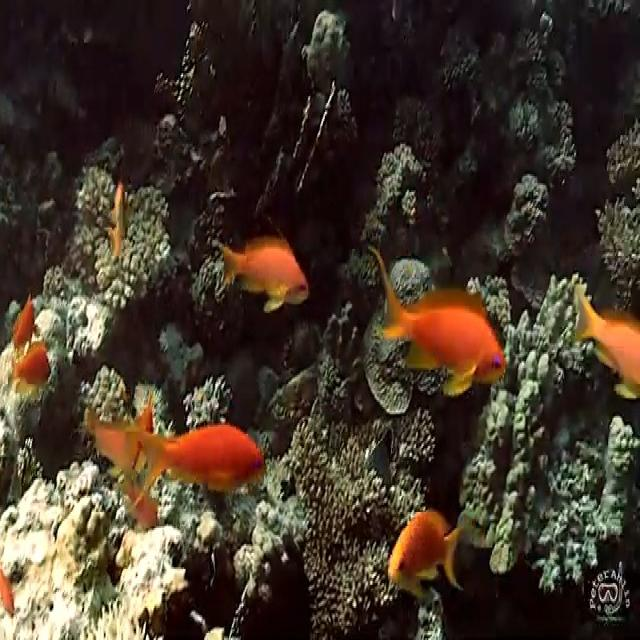Sea Goldie: (380, 252, 503, 388), (141, 421, 266, 494), (218, 237, 308, 315), (389, 506, 461, 600), (571, 293, 640, 390), (86, 406, 148, 473), (12, 339, 52, 391), (8, 294, 37, 344), (112, 184, 127, 242), (2, 557, 15, 619)
